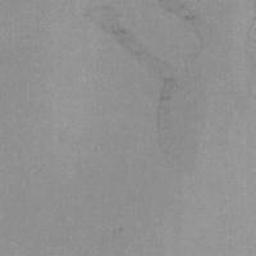Water spot: (84, 0, 223, 175)
